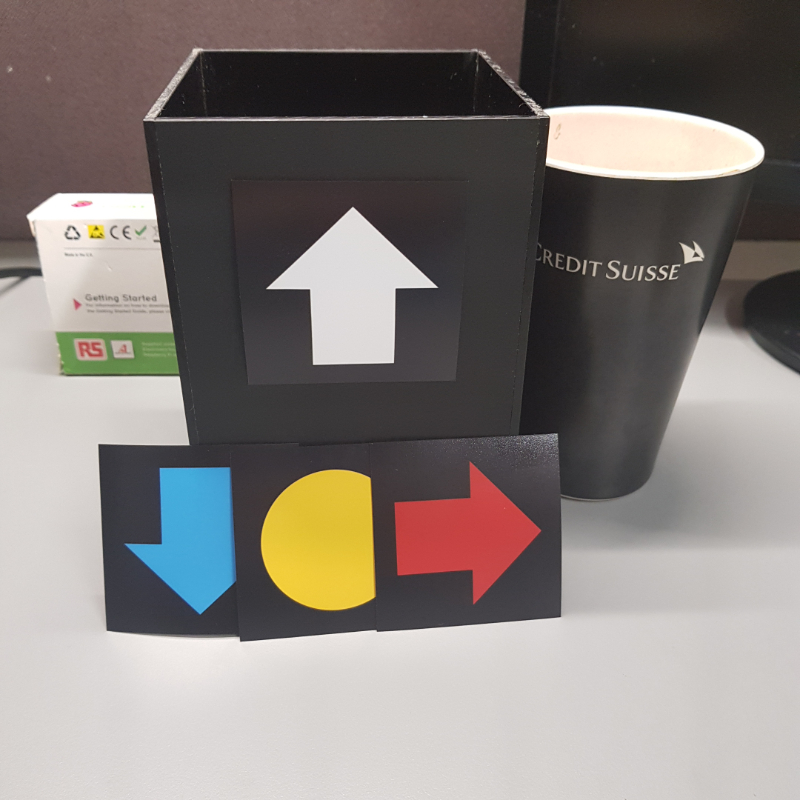DA-2: (385, 448, 554, 614)
UA-1: (255, 189, 452, 377)
